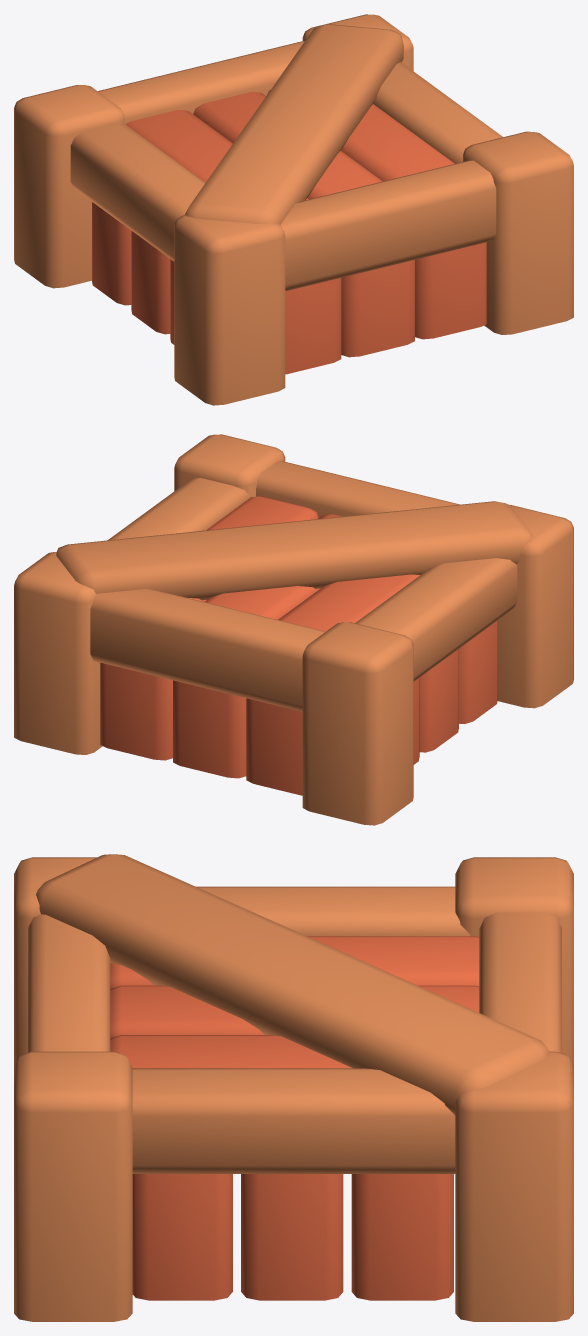
Rendered from SM_Obs01.fbx.
3 renders of one model, top to bottom at view 1: azimuth 30°, elevation 25°; view 2: azimuth 150°, elevation 25°; view 3: azimuth 270°, elevation 25°, orthographic. The views are drawn at different scales.
Parts seen in each view (by area): view 1: SM_Obs01; view 2: SM_Obs01; view 3: SM_Obs01.
Boxes of the visible parts, x1,y1,x2,y2 form: SM_Obs01: (14,14,573,405); SM_Obs01: (14,434,573,825); SM_Obs01: (14,854,573,1321).
Size of the model in its own units: 102 by 45.69 by 97.78.
